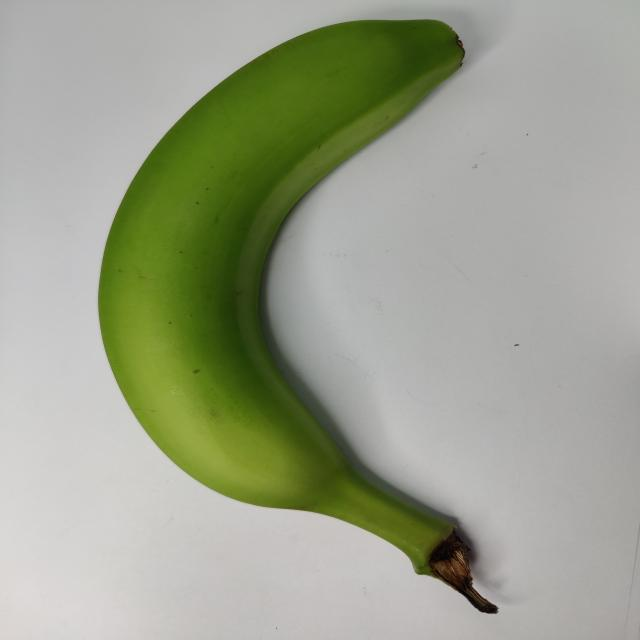raw: (92, 0, 535, 606)
